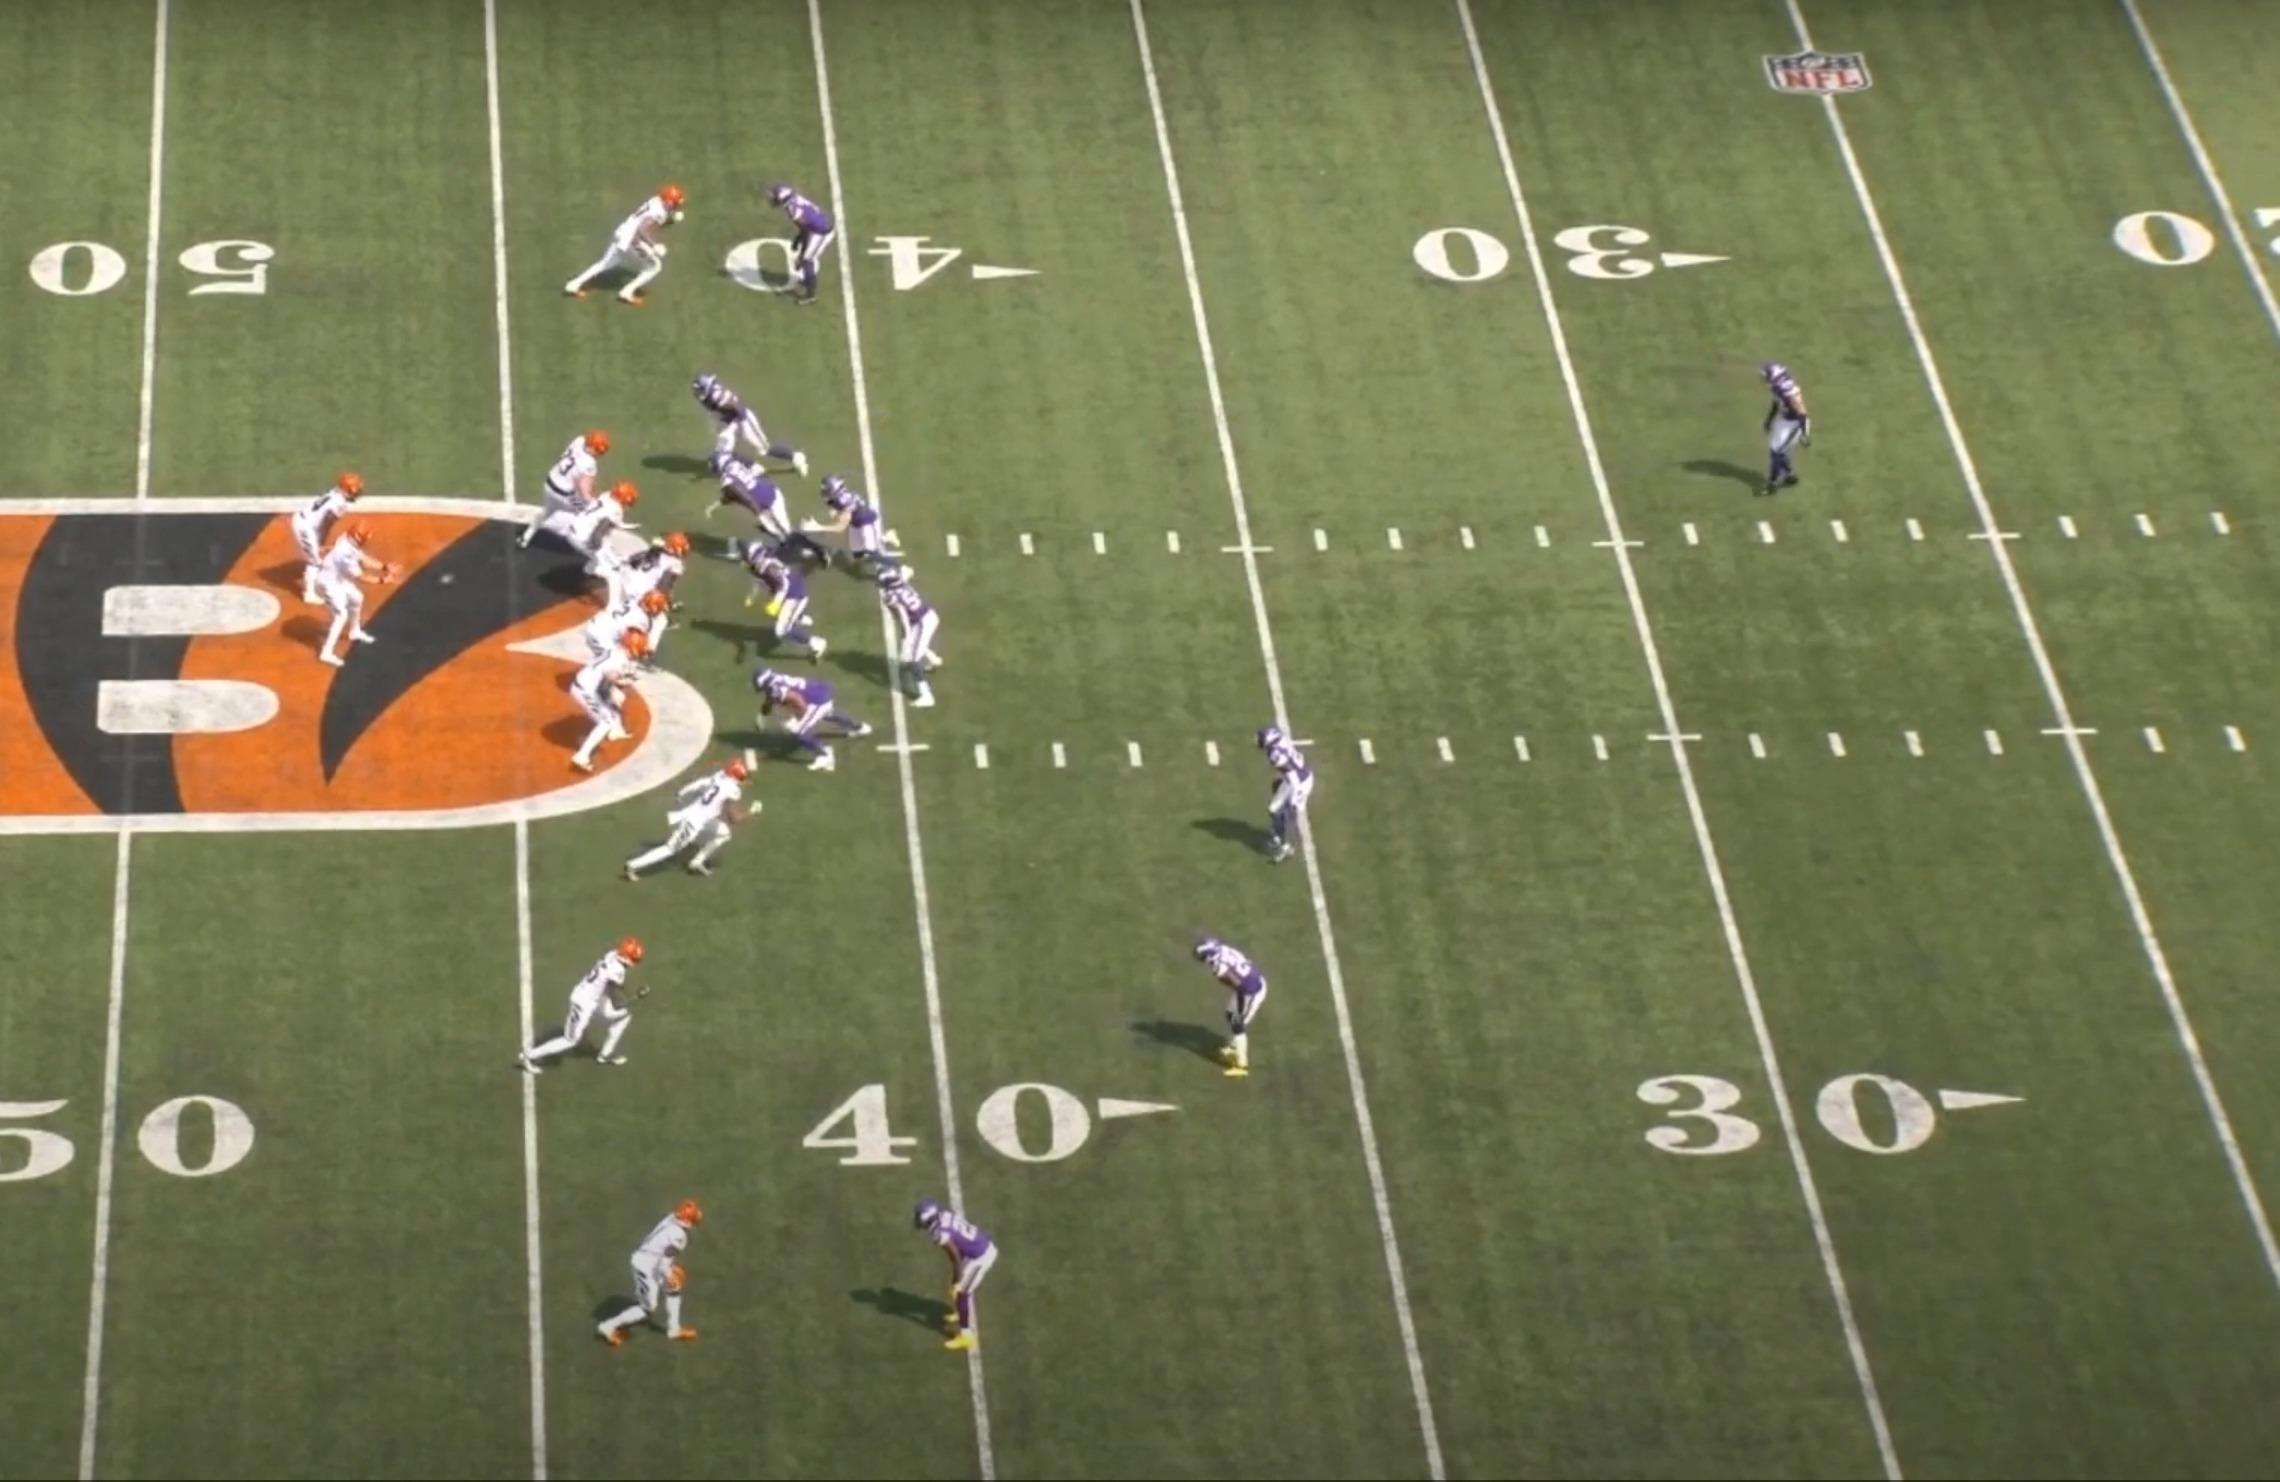defense: (741, 660, 872, 776), (921, 1195, 1009, 1362), (1192, 922, 1280, 1085), (688, 367, 811, 482), (864, 557, 949, 719), (730, 530, 831, 665), (1248, 716, 1326, 876), (713, 450, 821, 558), (811, 470, 909, 580), (763, 179, 838, 311), (1752, 352, 1815, 502)
oline: (572, 630, 661, 778), (520, 429, 613, 558), (605, 528, 698, 631), (572, 477, 646, 600), (585, 595, 670, 670)
qb: (316, 518, 399, 675)
skill: (522, 927, 656, 1080), (593, 1190, 711, 1356), (622, 751, 758, 889), (565, 181, 696, 309), (299, 467, 372, 615)
